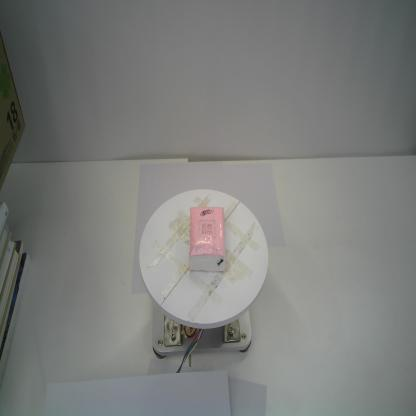Tissue: (188, 206, 226, 274)
